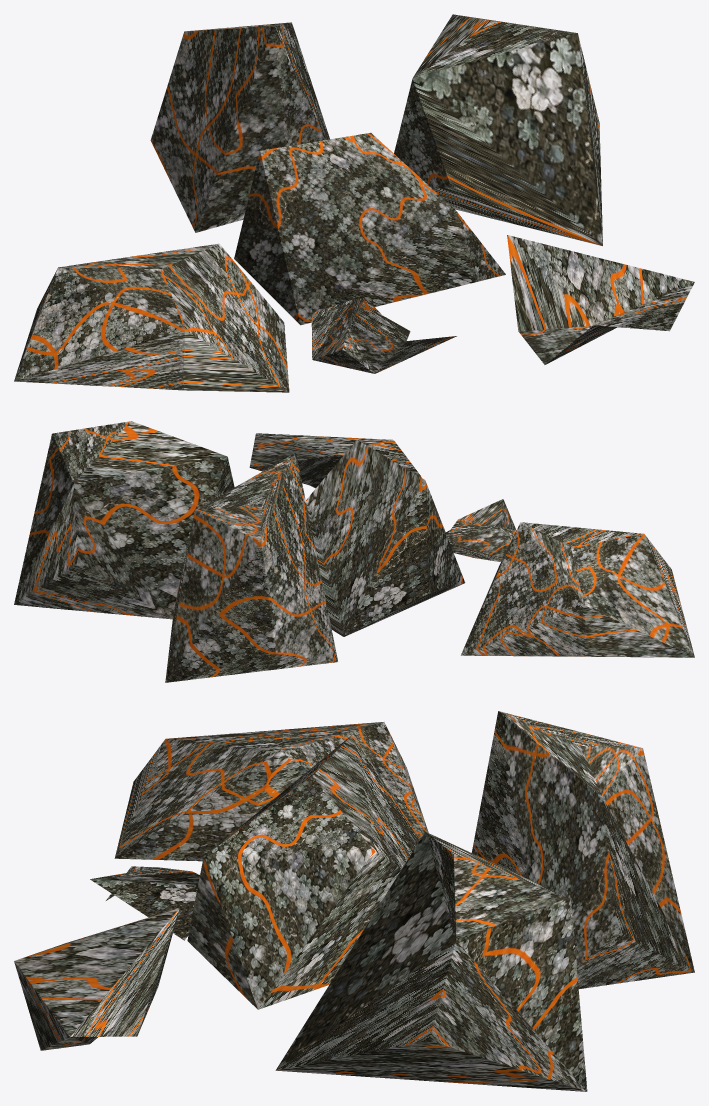
Rendered from mm9_deco_stonedebris05thjorad.glb.
3 views of the same model, one above another, from view 1: azimuth 30°, elevation 25°; view 2: azimuth 150°, elevation 25°; view 3: azimuth 270°, elevation 25° (orthographic). The views are drawn at different scales.
Visible parts, largest first — view 1: Stonedebris05thjorad; view 2: Stonedebris05thjorad; view 3: Stonedebris05thjorad.
Boxes of the visible parts, x1=… form: Stonedebris05thjorad: x1=14, y1=14, x2=694, y2=392; Stonedebris05thjorad: x1=14, y1=421, x2=694, y2=682; Stonedebris05thjorad: x1=14, y1=711, x2=694, y2=1091.
Bounding box in the file's own units: 2.38 × 0.7236 × 1.92.
Materials: 1 (1 with a texture image).
